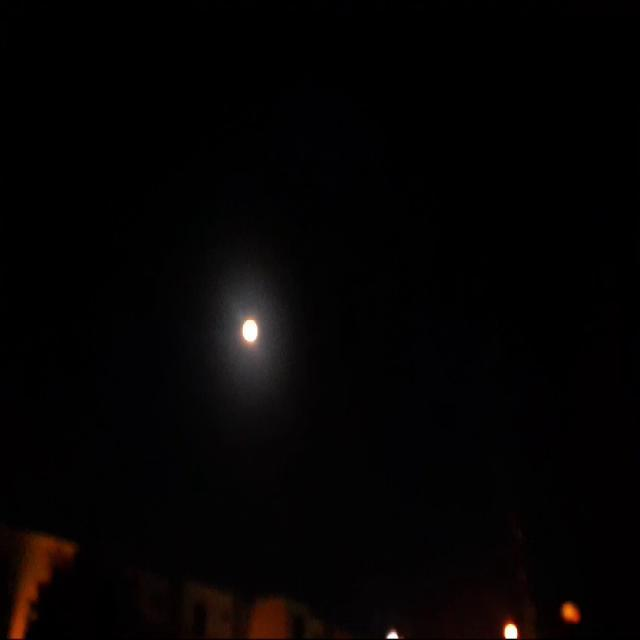moon: (255, 313, 277, 352)
